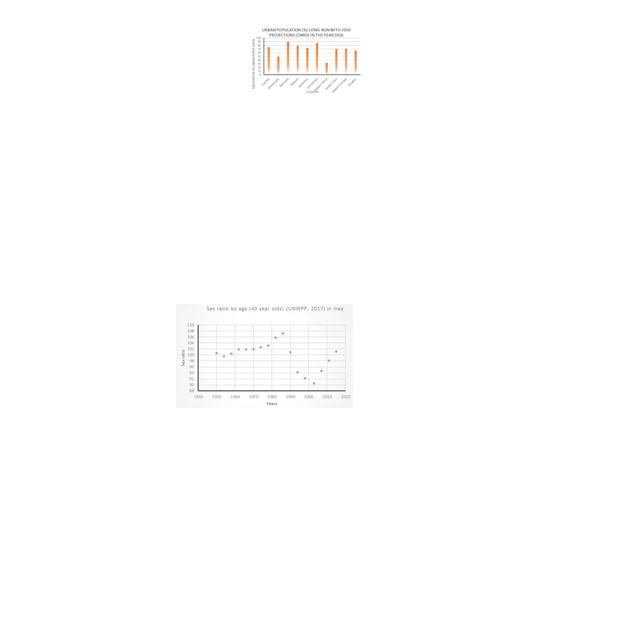Graph: (176, 304, 353, 408), (250, 26, 362, 94)
